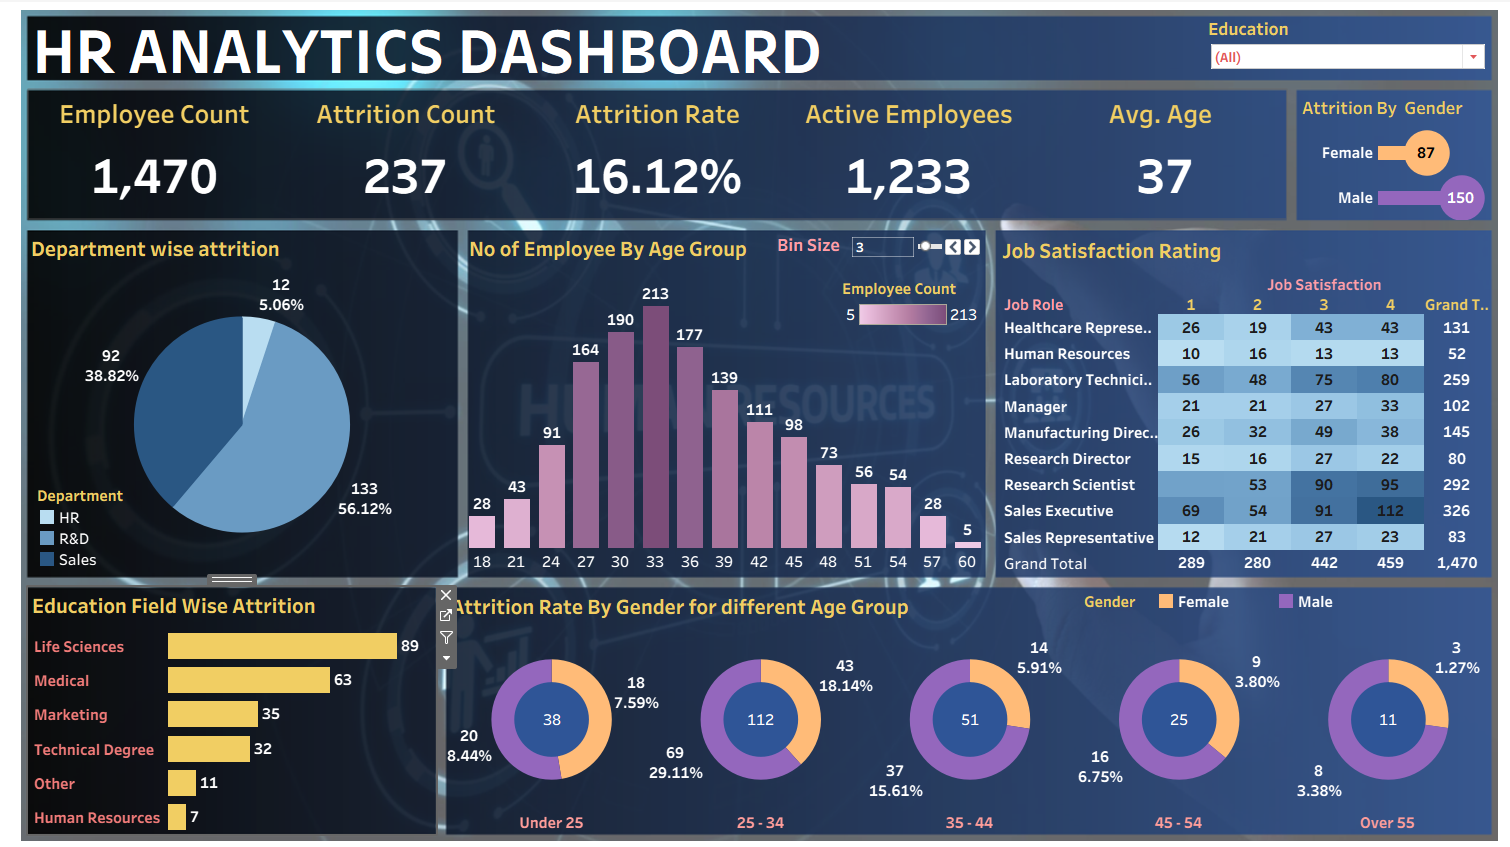

This screenshot's page, from the dashboard's own definition file:
{"tool":"tableau","page":{"name":"HR ANALYTICS DASHBOARD ","canvas":[1580,855],"ordinal":0},"visuals":[{"type":"image","param":"Image/HR background.pptx.png","box":[8,8,1564,839]},{"type":"filter","title":"Department wise attrition ","param":"[federated.0fl9ruh117trra196kegu1llgkcg].[none:Education:nk]","box":[1238,19,280,60]},{"type":"text","box":[59,20,814,60]},{"type":"worksheet","title":"KPI","mark":"Automatic","box":[59,92,1257,128]},{"type":"worksheet","title":"Attrition by Gender","mark":"Automatic","rows":["Gender"],"cols":["Calculation_1017372490969088","Calculation_1017372490969088"],"box":[1328,93,191,129]},{"type":"worksheet","title":"Department wise attrition ","mark":"Pie","box":[57,232,430,347]},{"type":"worksheet","title":"No of Employee By Age Group","mark":"Automatic","rows":["Employee Count"],"cols":["Age (bin)"],"box":[495,232,520,343]},{"type":"worksheet","title":"Job Satisfaction Rating","mark":"Square","rows":["Job Role"],"cols":["Job Satisfaction"],"box":[1028,234,492,344]},{"type":"parameter","param":"[Parameters].[Parameter 1017372522979331]","box":[807,236,206,40]},{"type":"legend","title":"No of Employee By Age Group","param":"[federated.0fl9ruh117trra196kegu1llgkcg].[sum:Employee Count:qk]","box":[872,280,140,88]},{"type":"legend","title":"Department wise attrition ","param":"[federated.0fl9ruh117trra196kegu1llgkcg].[none:Department:nk]","box":[67,487,140,85]},{"type":"worksheet","title":"Education Field Wise Attrition ","mark":"Automatic","rows":["Education Field"],"cols":["Calculation_1017372490969088"],"box":[58,589,408,247]},{"type":"worksheet","title":"Attrition Rate By Gender for different Age Group ","mark":"Pie","rows":["Calculation_1017372547092485","Calculation_1017372547092485"],"cols":["CF_age band"],"box":[477,590,1046,246]},{"type":"legend","title":"Attrition Rate By Gender for different Age Group ","param":"[federated.0fl9ruh117trra196kegu1llgkcg].[none:Gender:nk]","box":[1114,593,361,31]}]}

Visuals, with their boxes in screenshot pixels (x1, y1, x2, y2):
image: detection(0, 0, 1509, 846)
"Department wise attrition " filter: detection(1211, 7, 1495, 68)
text: detection(17, 8, 841, 69)
"KPI" worksheet: detection(17, 81, 1290, 211)
"Attrition by Gender" worksheet: detection(1302, 82, 1496, 213)
"Department wise attrition " worksheet (Pie marks): detection(14, 223, 450, 575)
"No of Employee By Age Group" worksheet: detection(458, 223, 985, 571)
"Job Satisfaction Rating" worksheet (Square marks): detection(998, 225, 1497, 574)
parameter: detection(774, 227, 983, 268)
"No of Employee By Age Group" legend: detection(840, 272, 982, 361)
"Department wise attrition " legend: detection(25, 482, 166, 568)
"Education Field Wise Attrition " worksheet: detection(15, 585, 429, 835)
"Attrition Rate By Gender for different Age Group " worksheet (Pie marks): detection(440, 586, 1500, 835)
"Attrition Rate By Gender for different Age Group " legend: detection(1085, 589, 1451, 620)
